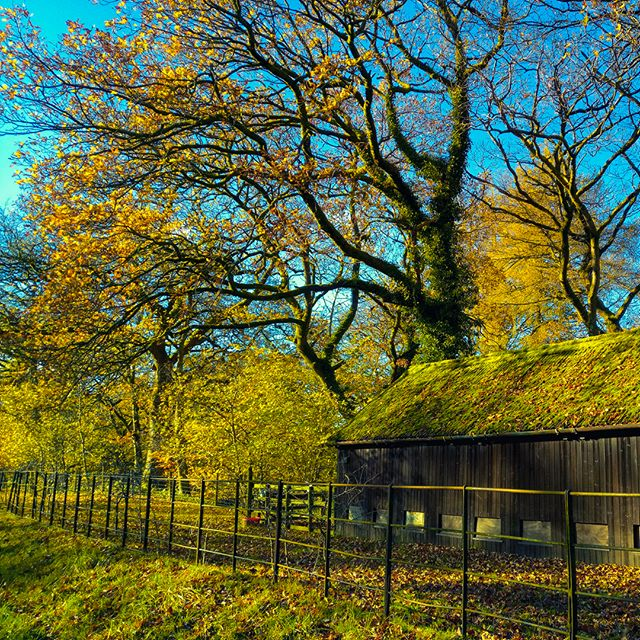building: (318, 330, 640, 547)
grass: (19, 529, 402, 640)
tree: (169, 1, 525, 346), (7, 106, 373, 425), (485, 98, 640, 333), (26, 232, 210, 429)
